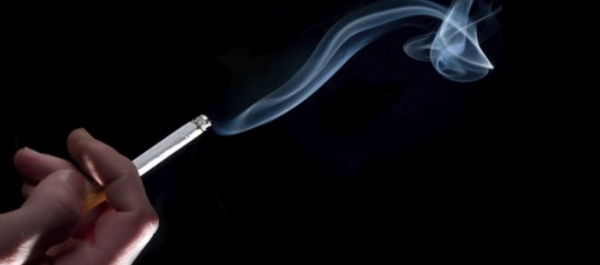sigaretta: (69, 117, 225, 223)
